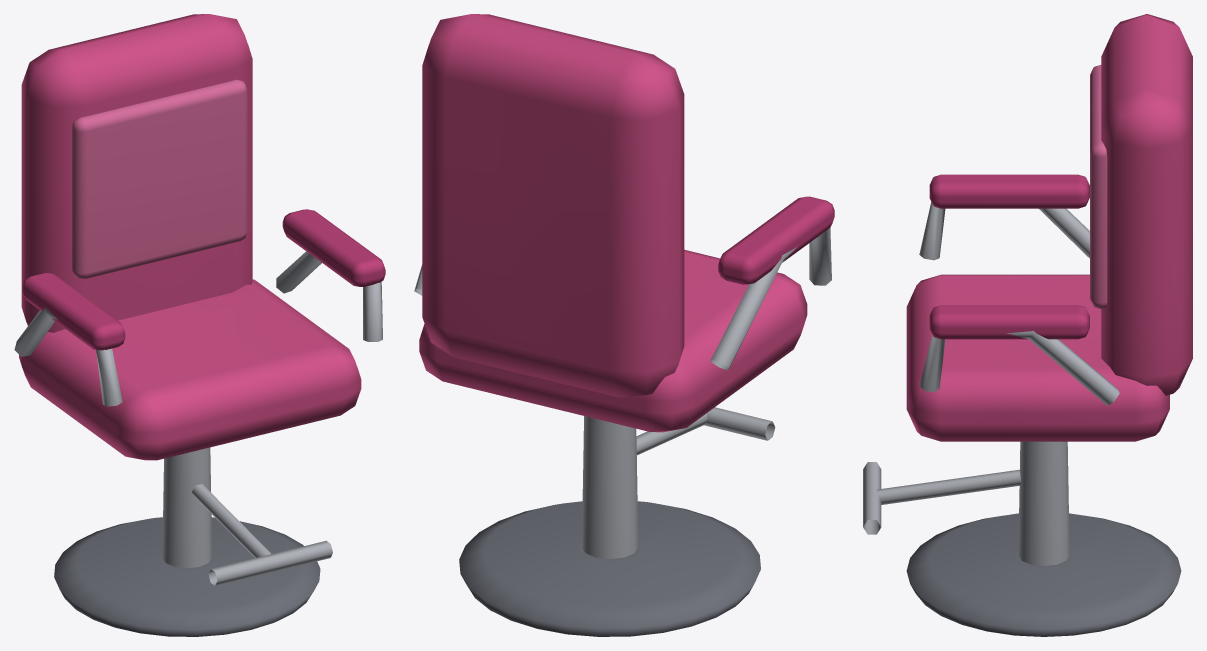
The model's file is furn_salon_chair.glb.
The picture shows the model from 3 angles, left to right: view 1: azimuth 30°, elevation 25°; view 2: azimuth 150°, elevation 25°; view 3: azimuth 270°, elevation 25°; orthographic projection. The views are drawn at different scales.
Parts seen in each view (by area): view 1: furn_salon_chair_main; view 2: furn_salon_chair_main; view 3: furn_salon_chair_main.
Part boxes in pixels (bbox=[...]): furn_salon_chair_main: bbox=[14, 14, 385, 636]; furn_salon_chair_main: bbox=[414, 14, 834, 636]; furn_salon_chair_main: bbox=[863, 14, 1192, 636].
Size of the model in its own units: 0.616 by 1.02 by 0.576.
